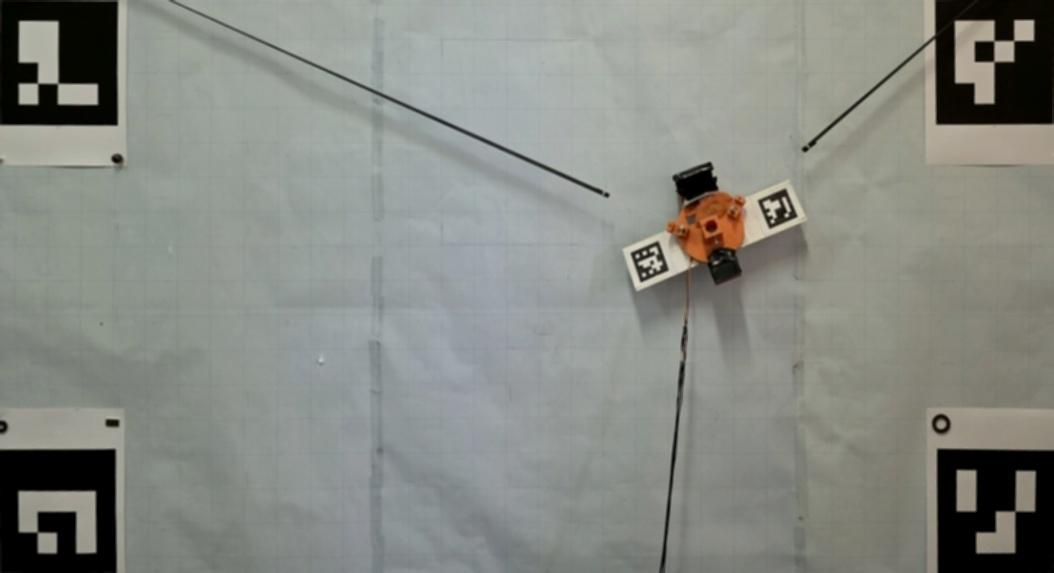robot: (665, 161, 746, 288)
